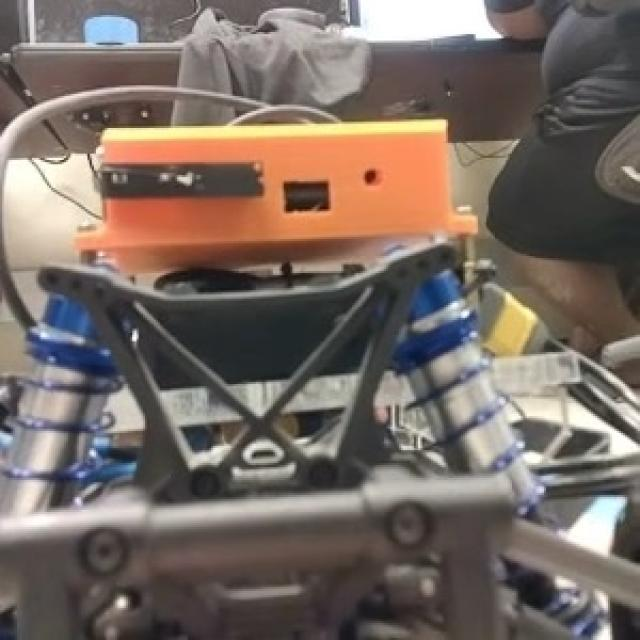obstacle: (0, 100, 640, 640)
